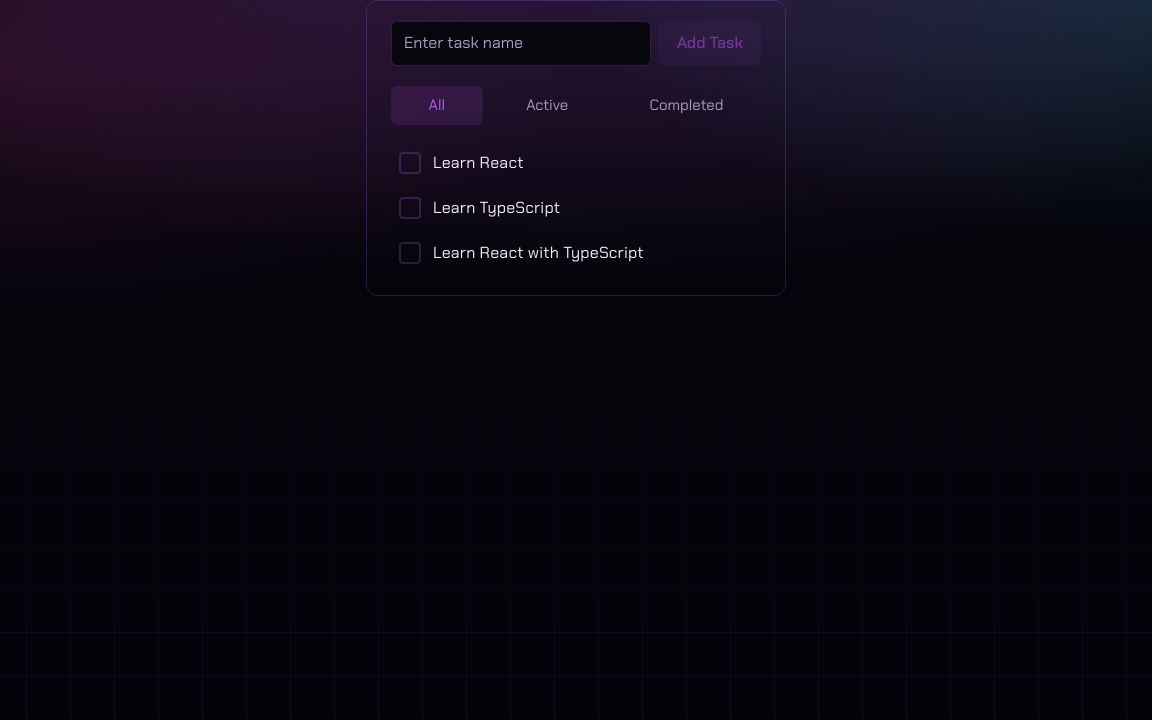
Test: TaskList › adds a new task via the AddTask form
In the field with placeholder "Enter task name": (521, 43) [391,21,651,66], type "Write tests"
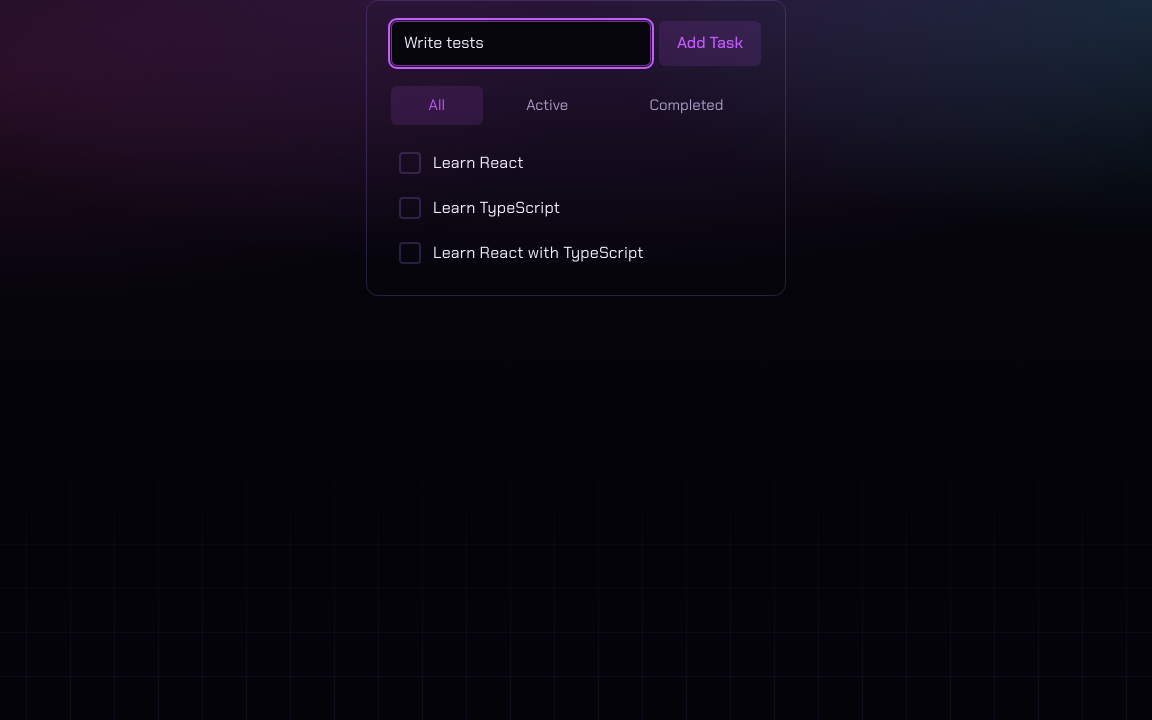
Click the button "Add Task": (710, 43) [659,21,761,66]
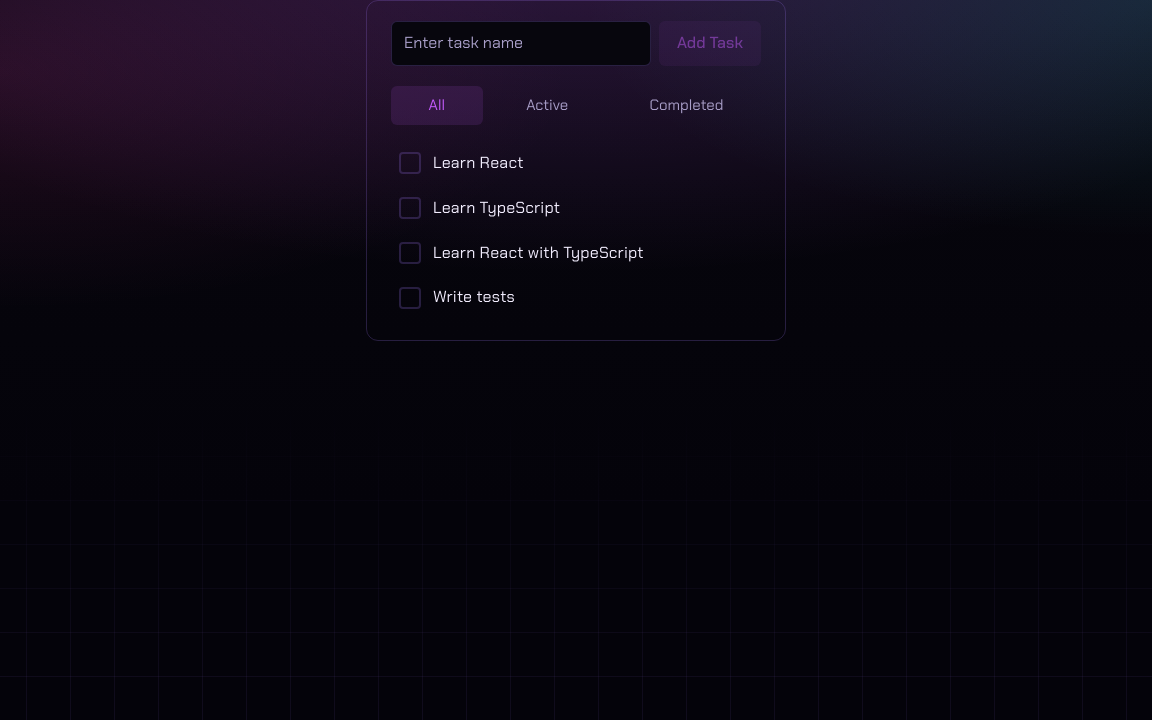
Result: the list item "Write tests" is shown at [433,286,515,307]
Result: the field with placeholder "Enter task name" is empty at [391,21,651,66]
